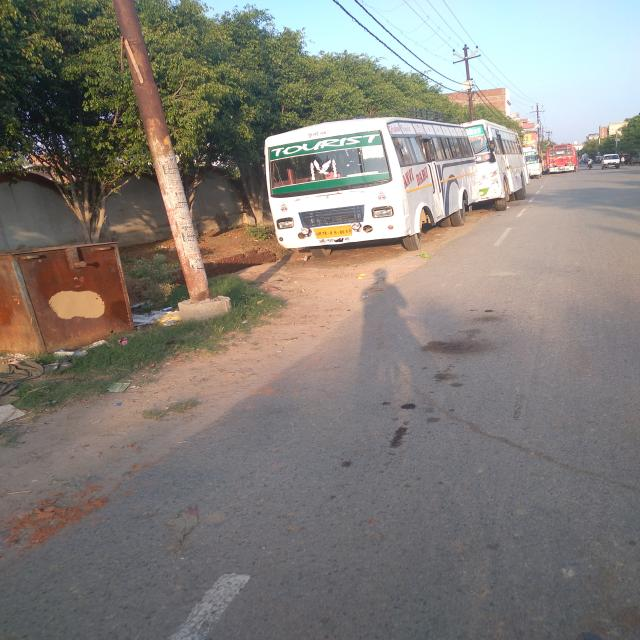Bus: (265, 118, 540, 258), (547, 145, 578, 172)
Car: (602, 154, 620, 169)
